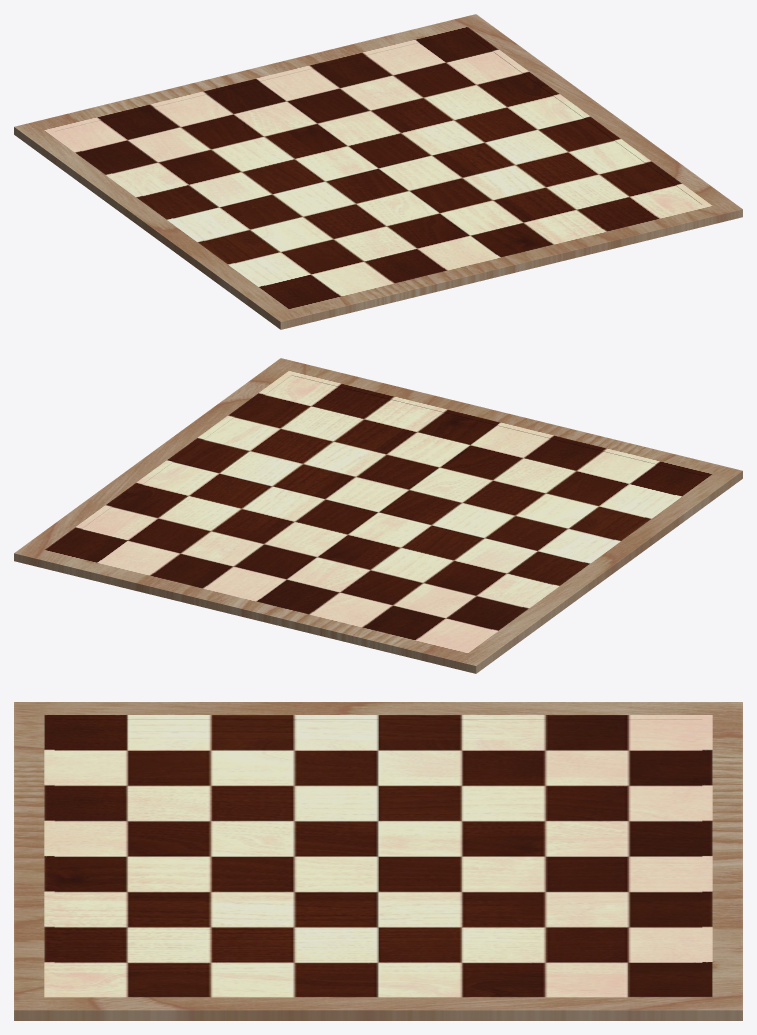
File: Chess.obj
3 views of the same model, one above another, from view 1: azimuth 30°, elevation 25°; view 2: azimuth 150°, elevation 25°; view 3: azimuth 270°, elevation 25° (orthographic). The views are drawn at different scales.
Visible parts, largest first — view 1: obj_17; view 2: obj_17; view 3: obj_17.
Boxes of the visible parts, bbox=[...] form: obj_17: bbox=[14, 14, 742, 329]; obj_17: bbox=[14, 358, 742, 673]; obj_17: bbox=[14, 702, 742, 1020].
Size of the model in its own units: 7.59 by 0.1231 by 7.59.
1 material, 1 textured.
